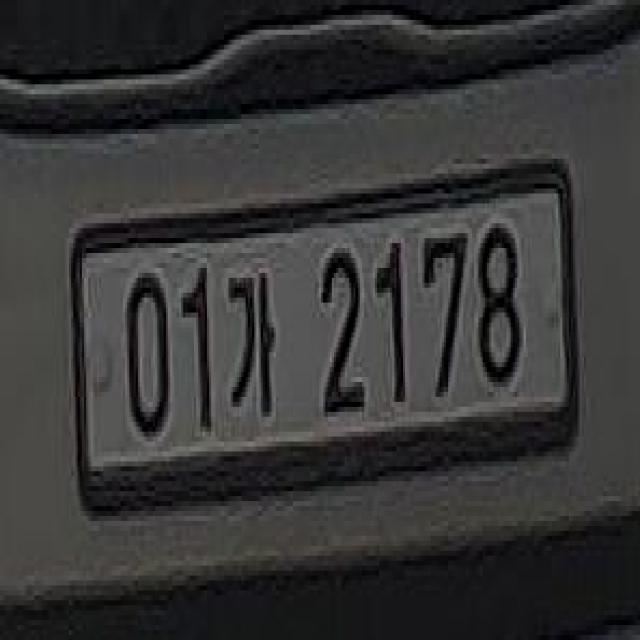illegal_plate: (71, 163, 580, 518)
